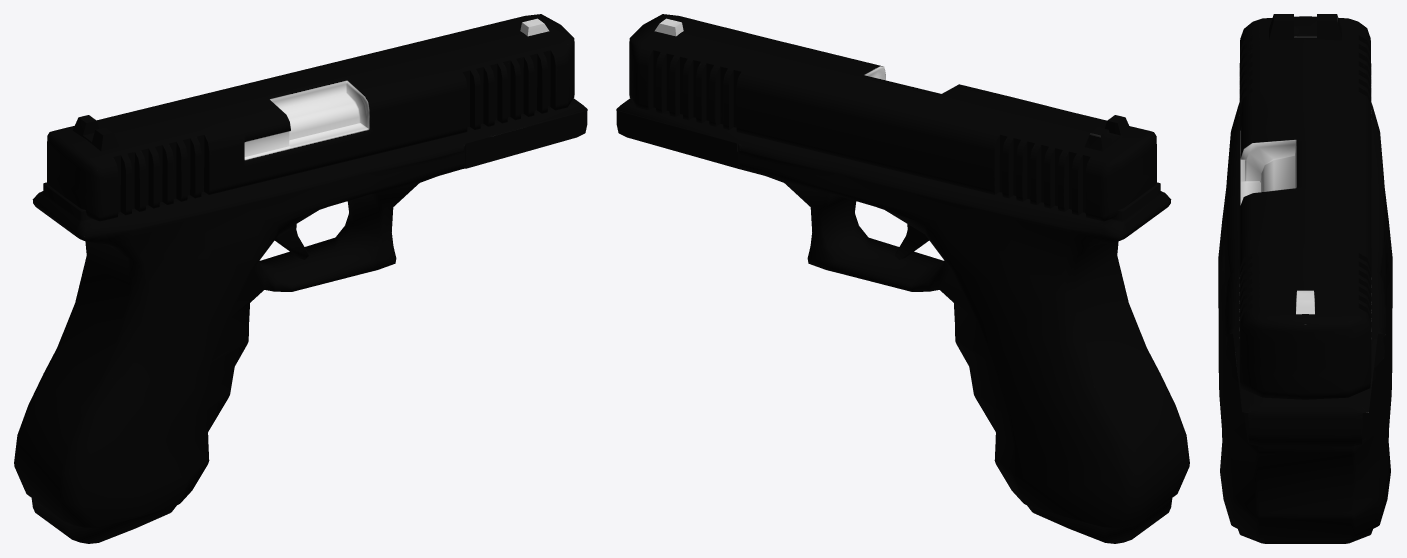
File: Door n Gun[1].blend  BOTH.fbx
3 views of the same model, side by side, from view 1: azimuth 30°, elevation 25°; view 2: azimuth 150°, elevation 25°; view 3: azimuth 270°, elevation 25° (orthographic). The views are drawn at different scales.
Parts seen in each view (by area): view 1: Low Polly; view 2: Low Polly; view 3: Low Polly.
Part boxes in pixels (x1,y1,x2,y2): Low Polly: (14, 14, 587, 543); Low Polly: (616, 14, 1189, 543); Low Polly: (1218, 14, 1392, 543).
Bounding box in the file's own units: 187 × 132 × 41.85.
